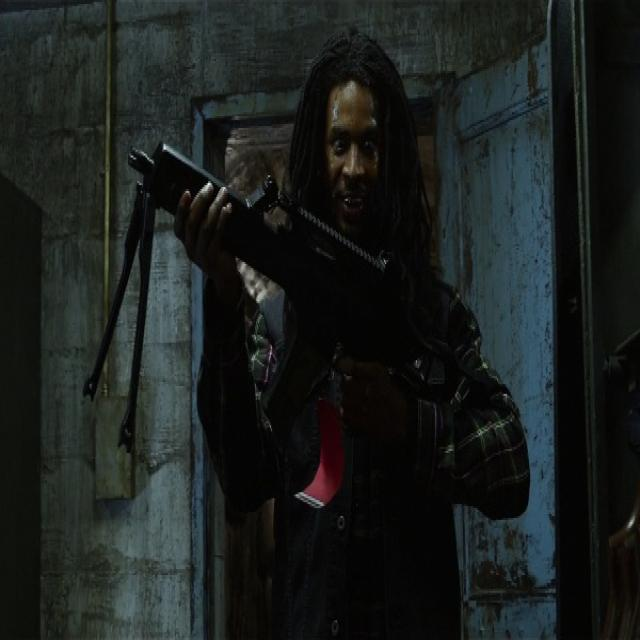rifle: (81, 128, 415, 487)
